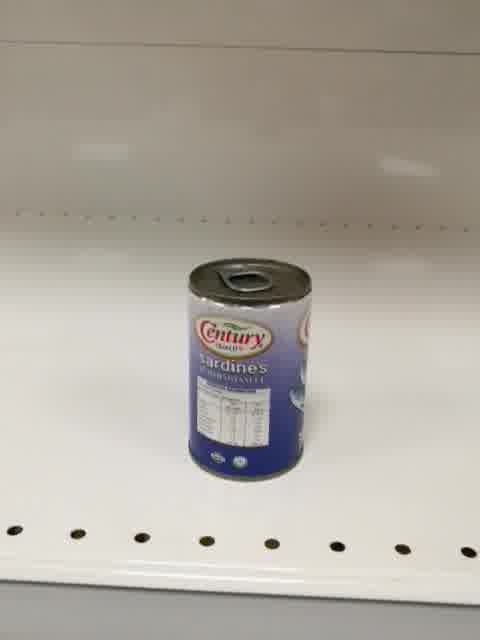sardine: (187, 255, 313, 485)
